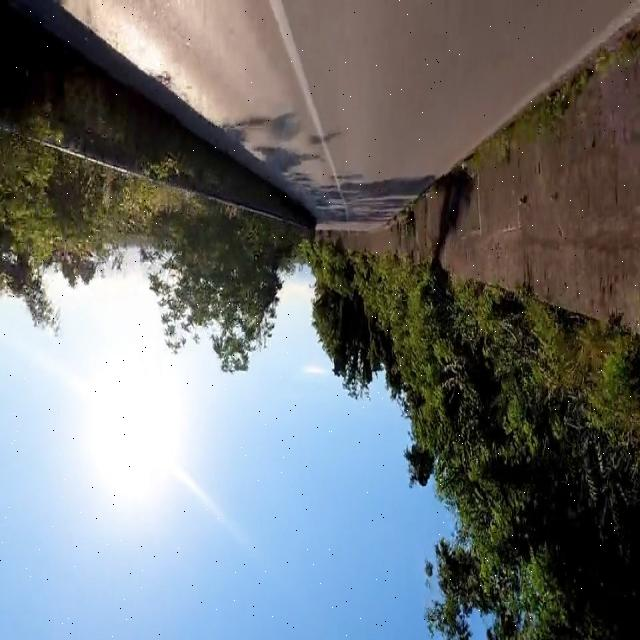lane: (269, 1, 348, 219)
road: (29, 2, 639, 230)
